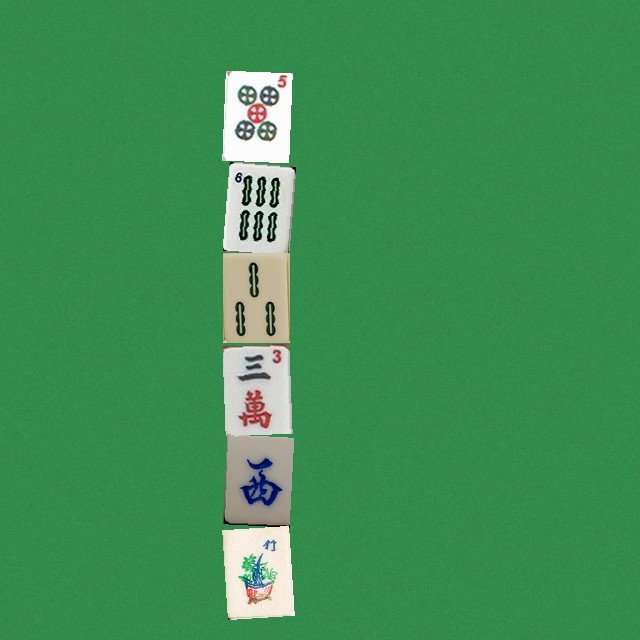tile: (222, 70, 289, 160), (222, 161, 289, 251), (222, 252, 289, 342), (222, 343, 289, 433), (222, 434, 289, 524), (222, 525, 289, 615)
